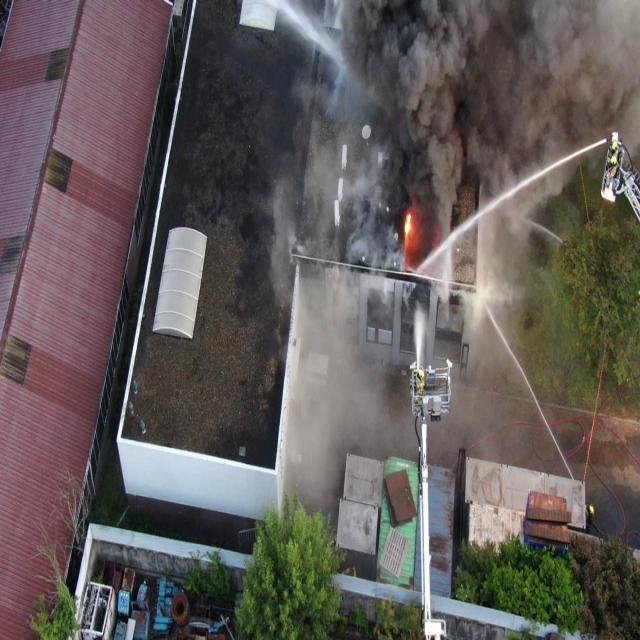Fire: (404, 213, 412, 236)
Smoke: (267, 0, 640, 509)
